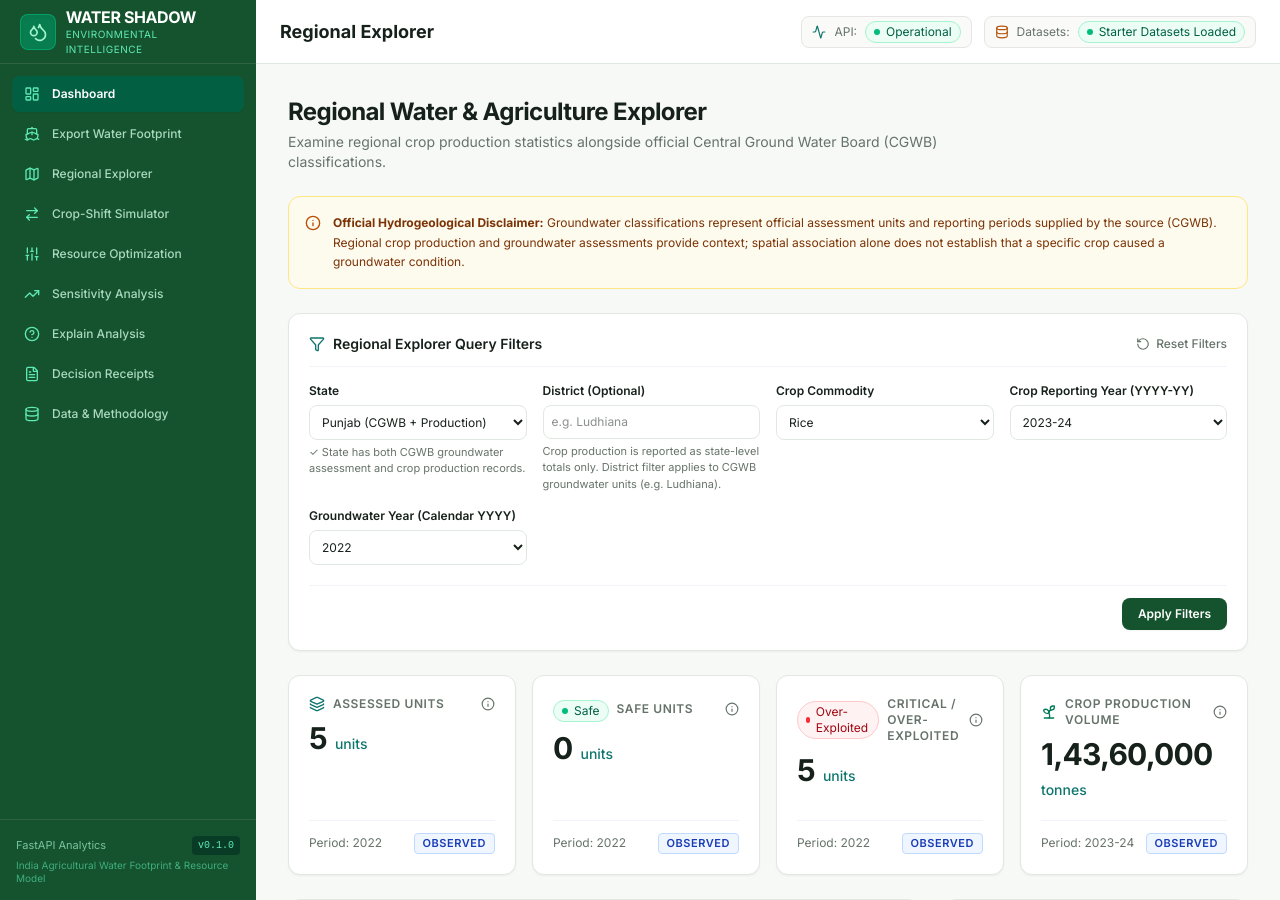
Test: RegionalExplorerPage Integration › handles optional district filter with clear state-level explanation
Type "Ludhiana" into the field with placeholder "e.g. Ludhiana" at (651, 422), box [542, 404, 760, 438]
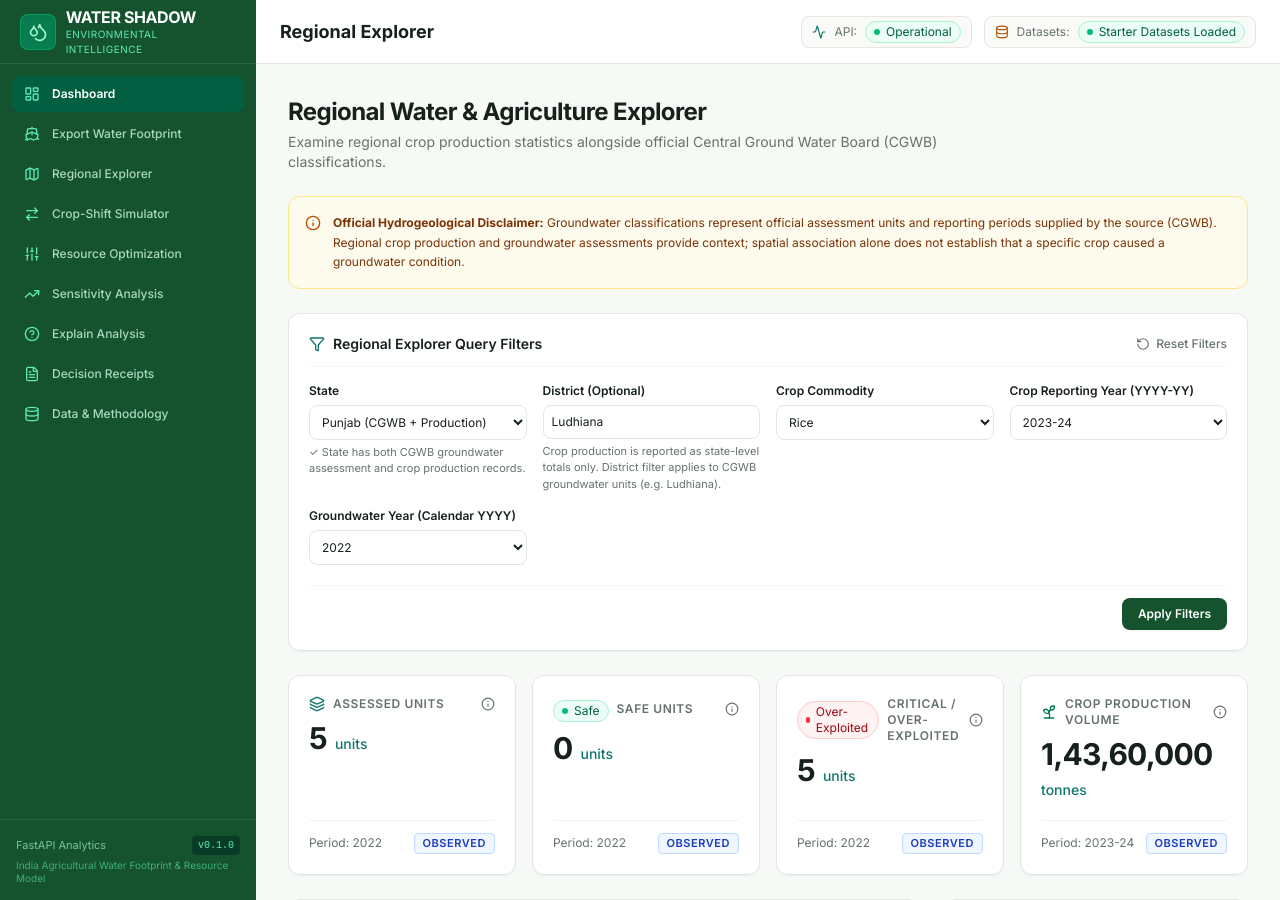
Click the button "Apply Filters" at (1174, 614), box [1122, 598, 1227, 630]
(page scrolled)
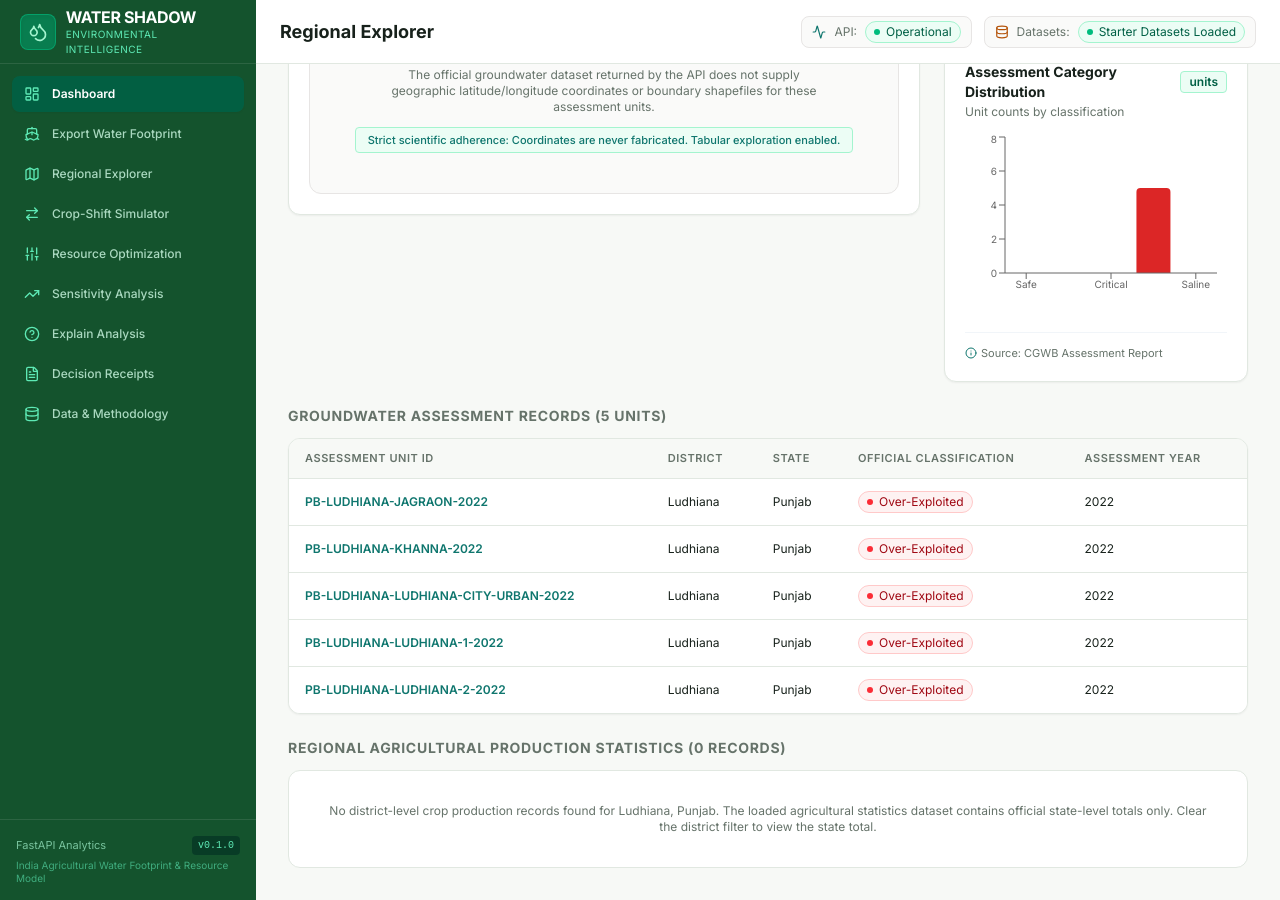
Expected: the text "The loaded agricultural statistics dataset contains official state-level totals only" is shown, [329, 803, 1207, 834]
